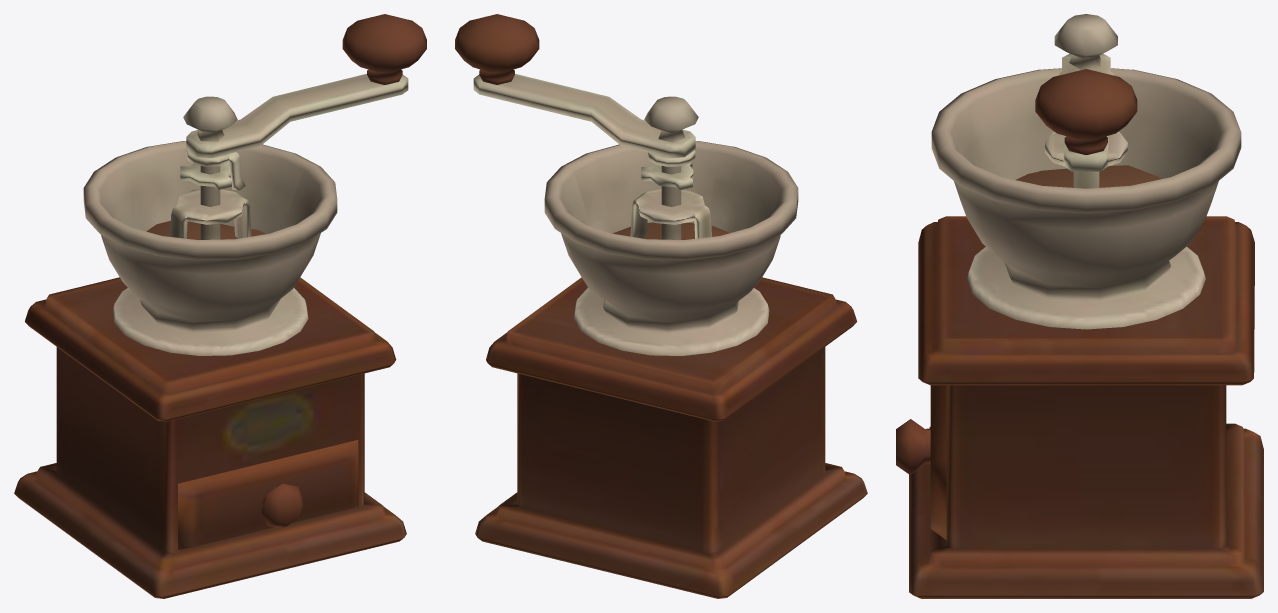
3 renders of one model, left to right at view 1: azimuth 30°, elevation 25°; view 2: azimuth 150°, elevation 25°; view 3: azimuth 270°, elevation 25°, orthographic. The views are drawn at different scales.
Size of the model in its own units: 5.77 by 7.44 by 4.48.
1 material, 1 textured.
